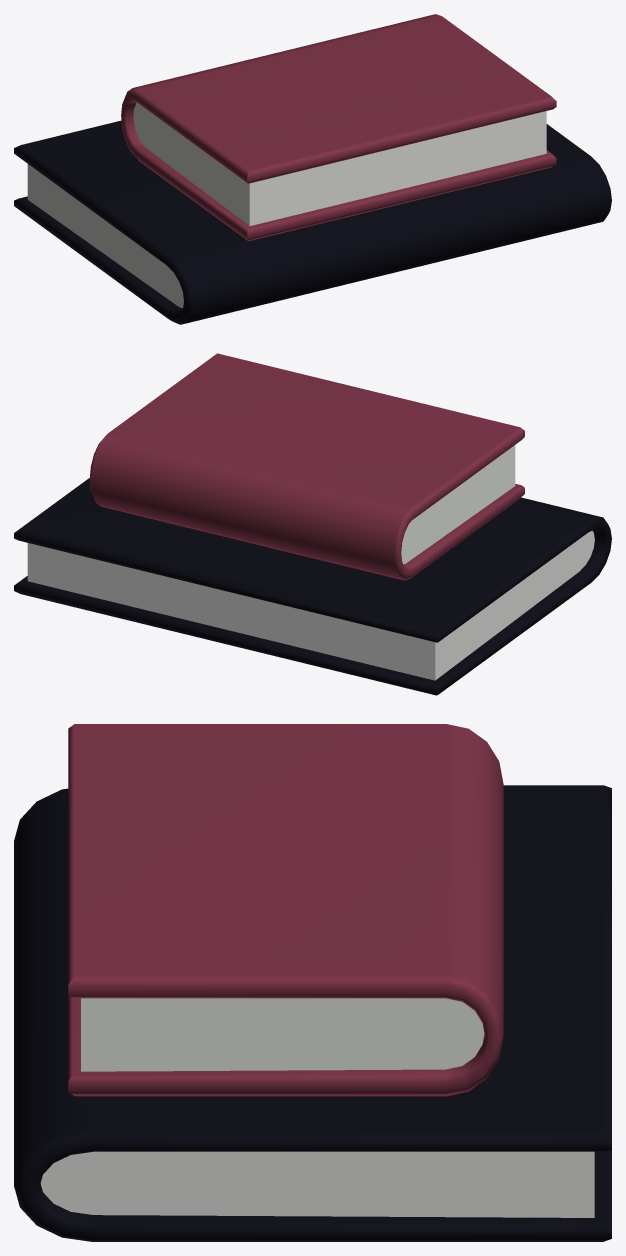
The model's file is 2livros.fbx.
The picture shows the model from 3 angles, top to bottom: view 1: azimuth 30°, elevation 25°; view 2: azimuth 150°, elevation 25°; view 3: azimuth 270°, elevation 25°; orthographic projection. The views are drawn at different scales.
Parts seen in each view (by area): view 1: Cylinder.012; view 2: Cylinder.012; view 3: Cylinder.012.
Part boxes in pixels (box(x1,y1,x2,y2)): Cylinder.012: box(14, 14, 611, 324); Cylinder.012: box(14, 353, 611, 695); Cylinder.012: box(14, 724, 611, 1241).
Bounding box in the file's own units: 67.94 × 20.93 × 48.75.
